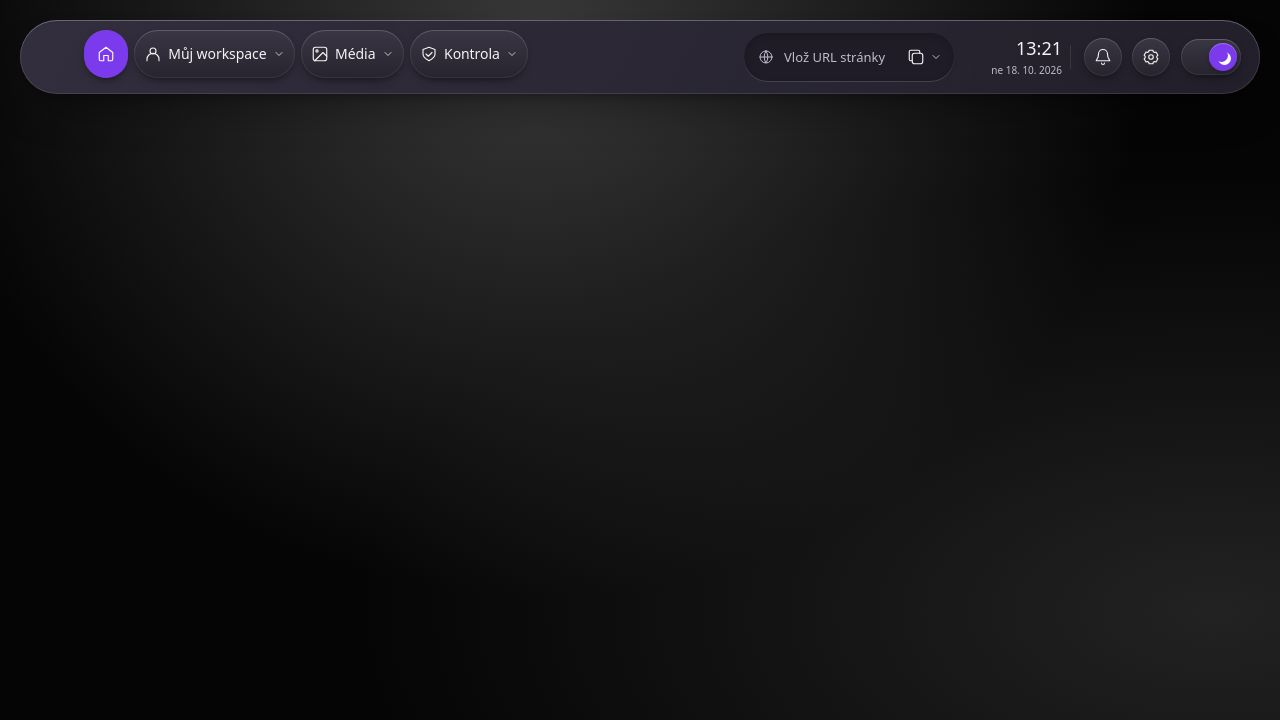
migrated application › clicking the cursor setting label disables the effect and persists after remount
Click the button named "Nastavení": (1151, 57) [1129,35,1173,79]
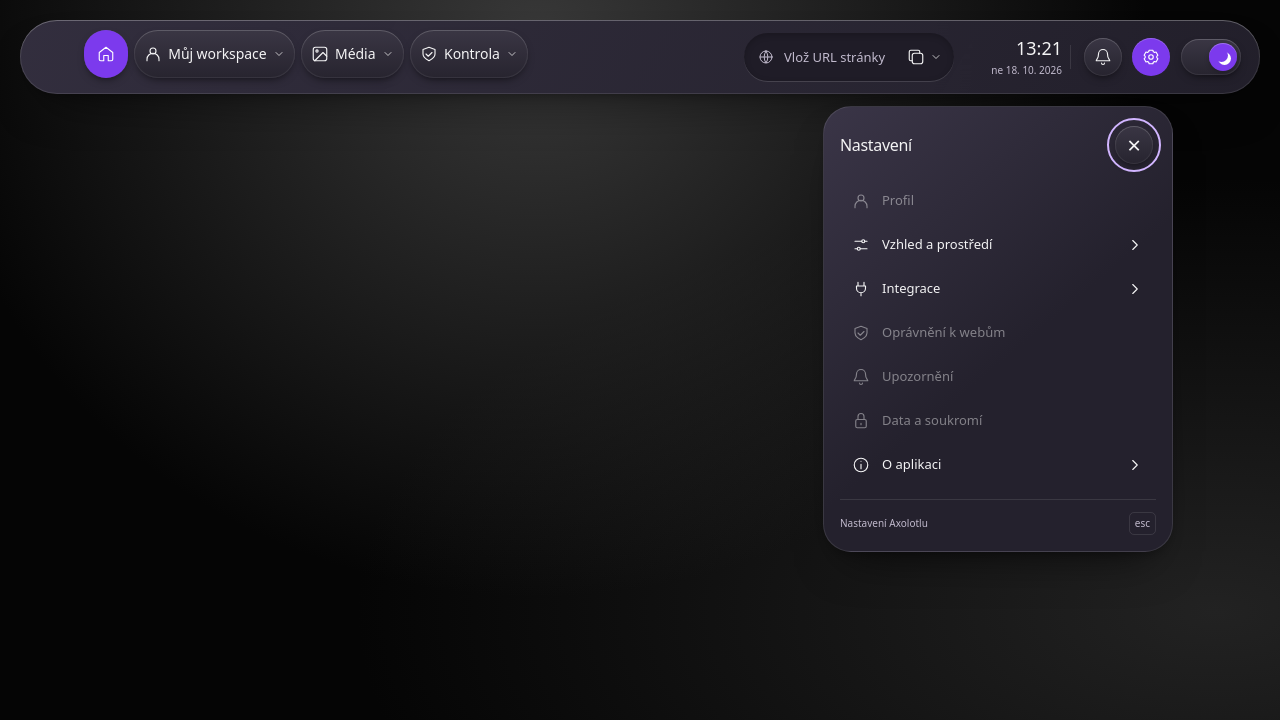
Click the button "Vzhled a prostředí": (937, 244) [840,223,1156,267]
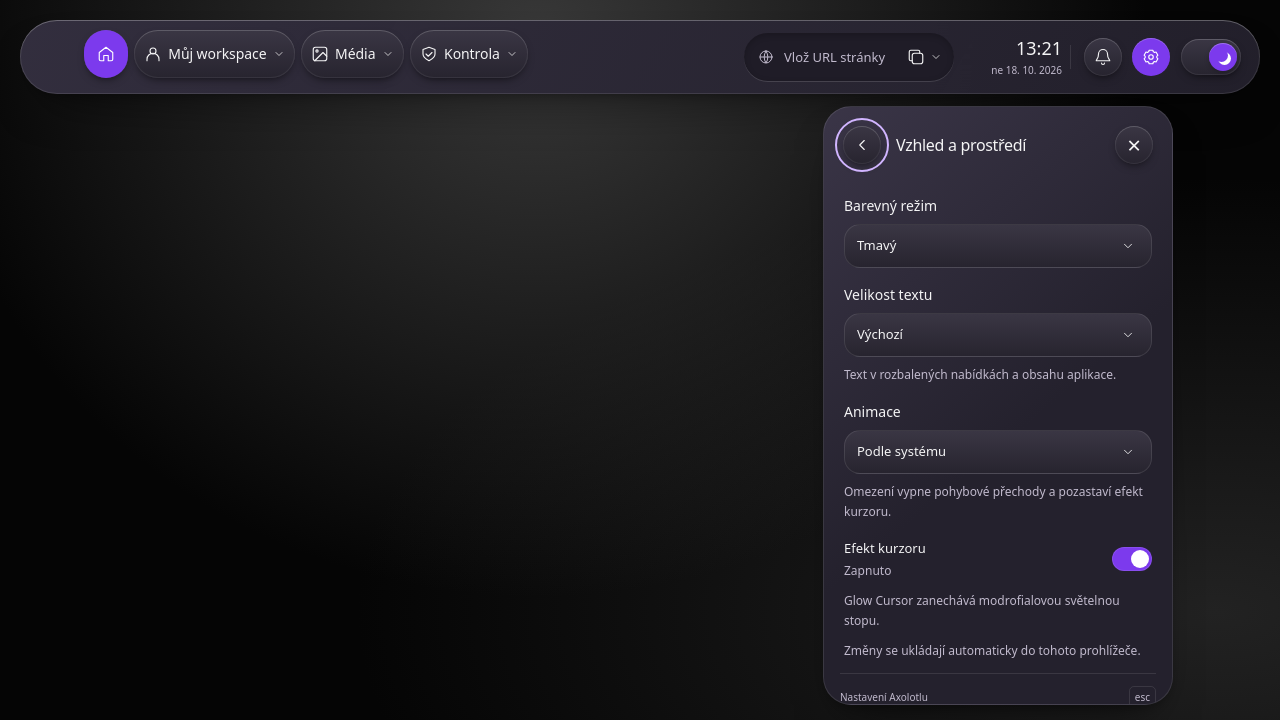
Click the text "Efekt kurzoru": (885, 559) [844,539,926,580]
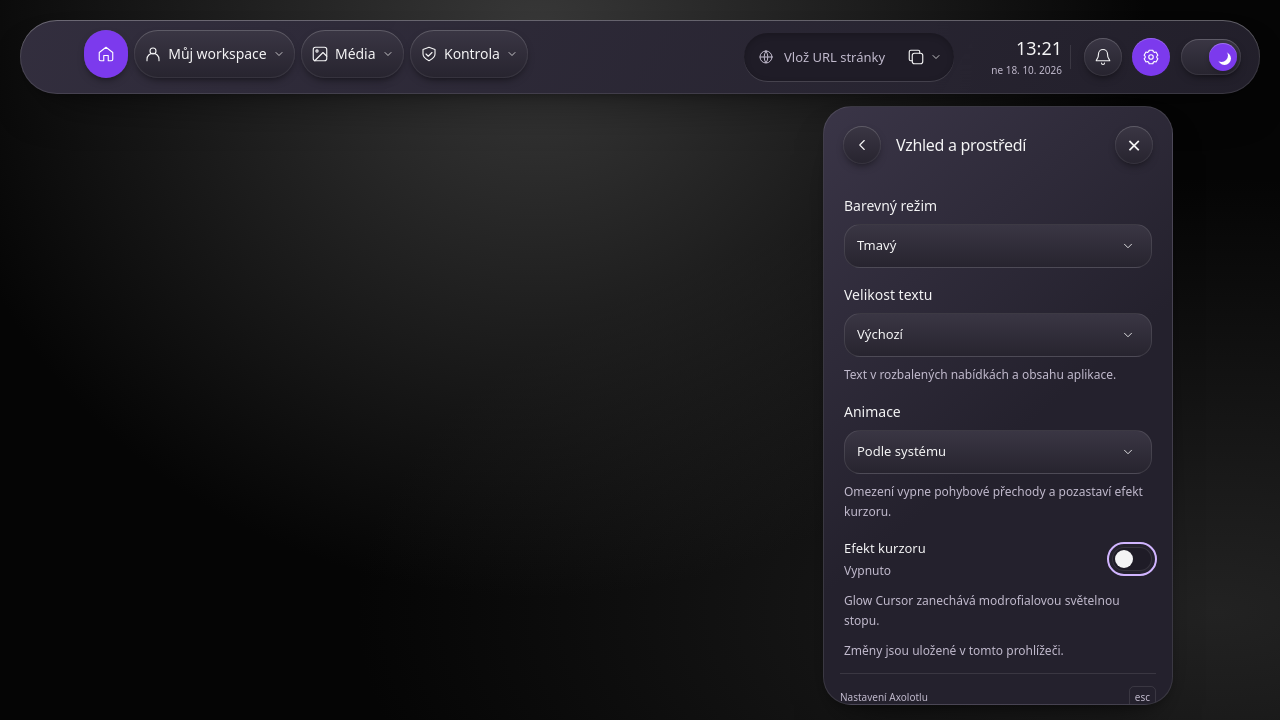
Now the switch labelled "Efekt kurzoru" is not checked, box [1112,547,1152,571]
Now the element with class "axolotl-cursor-layer" is gone
